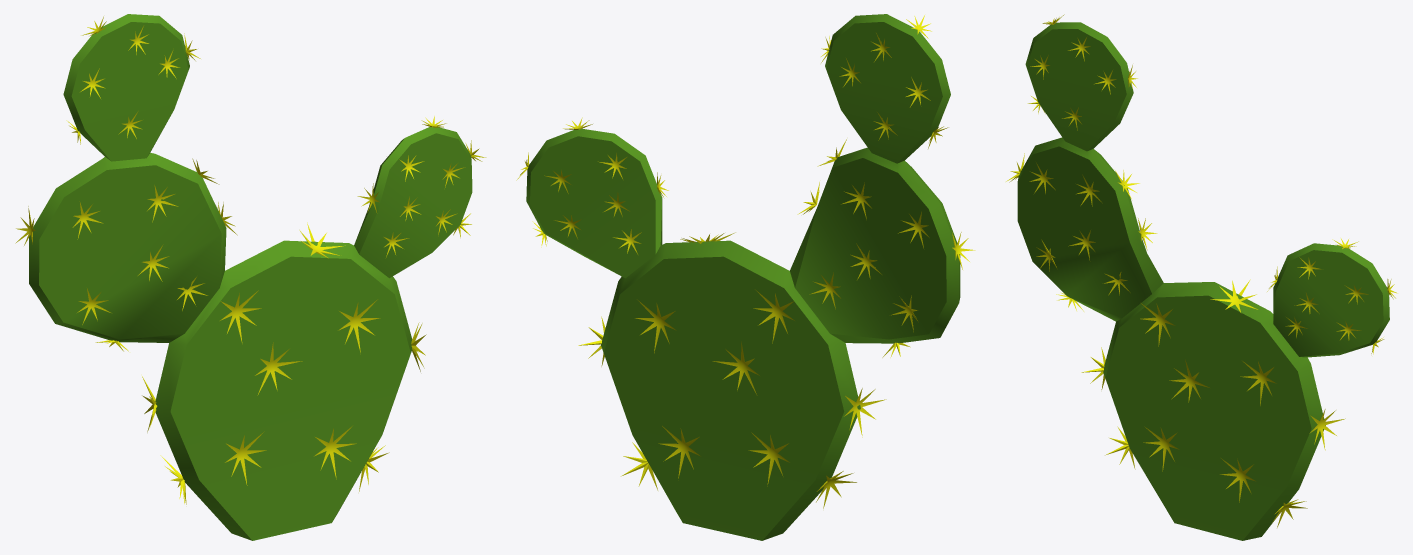
The model's file is cactus01.fbx.
3 views of the same model, side by side, from view 1: azimuth 30°, elevation 25°; view 2: azimuth 150°, elevation 25°; view 3: azimuth 330°, elevation 25° (orthographic). The views are drawn at different scales.
Visible parts, largest first — view 1: Cactus_01; view 2: Cactus_01; view 3: Cactus_01.
Boxes of the visible parts, bbox=[...] form: Cactus_01: bbox=[15, 14, 486, 540]; Cactus_01: bbox=[516, 14, 975, 540]; Cactus_01: bbox=[1006, 14, 1397, 540].
Size of the model in its own units: 0.7631 by 0.8863 by 0.1198.
1 material, 1 textured.
